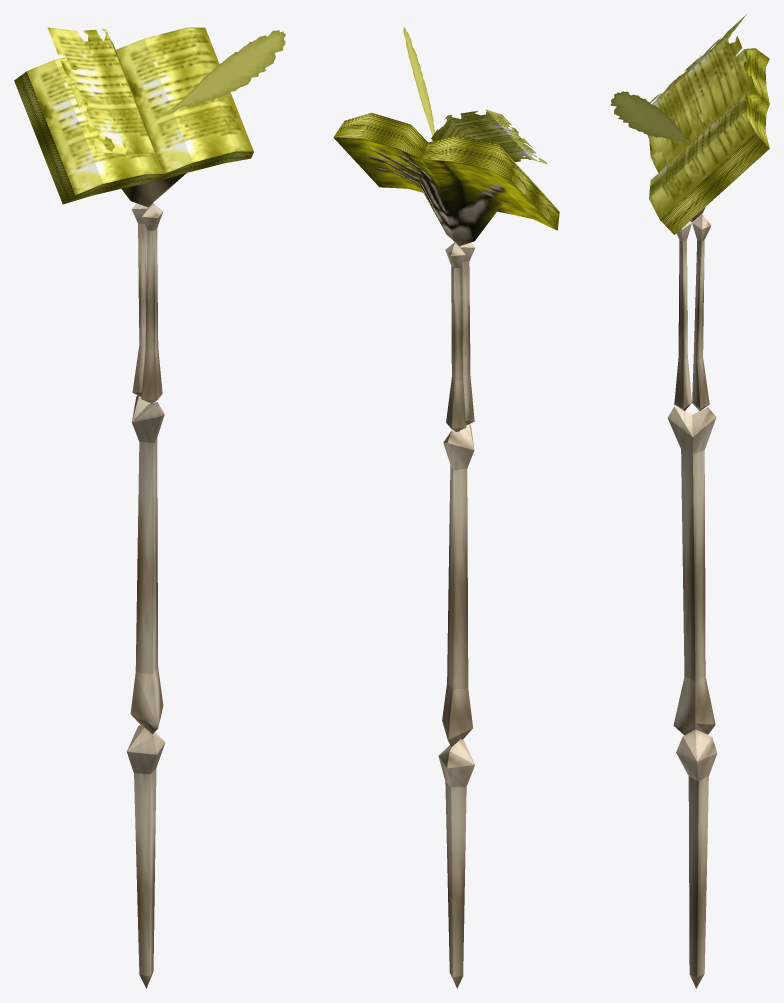
Rendered from wavemaster06_1.obj.
The picture shows the model from 3 angles, left to right: view 1: azimuth 30°, elevation 25°; view 2: azimuth 150°, elevation 25°; view 3: azimuth 270°, elevation 25°; orthographic projection. The views are drawn at different scales.
Visible parts, largest first — view 1: wavemaster06_1; view 2: wavemaster06_1; view 3: wavemaster06_1.
Part boxes in pixels (x1=…): wavemaster06_1: x1=14, y1=27, x2=285, y2=988; wavemaster06_1: x1=333, y1=27, x2=559, y2=988; wavemaster06_1: x1=610, y1=14, x2=769, y2=988.
Size of the model in its own units: 0.3313 by 1.56 by 0.2688.
